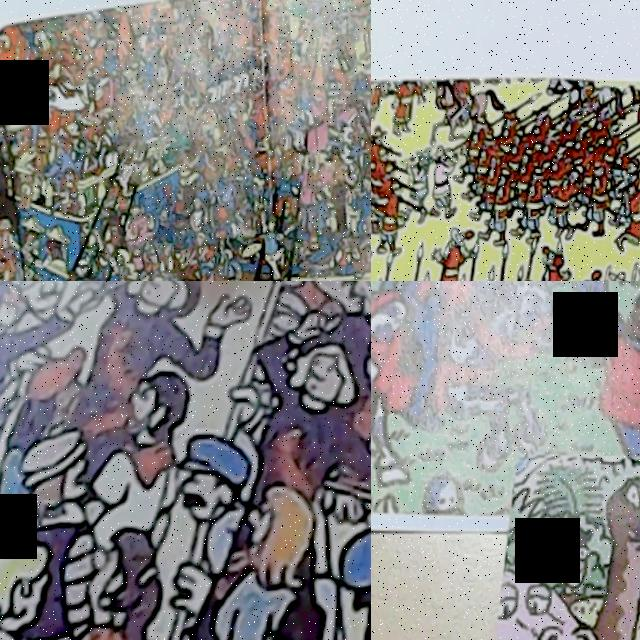waldo: (545, 523, 592, 592), (0, 252, 5, 274)
